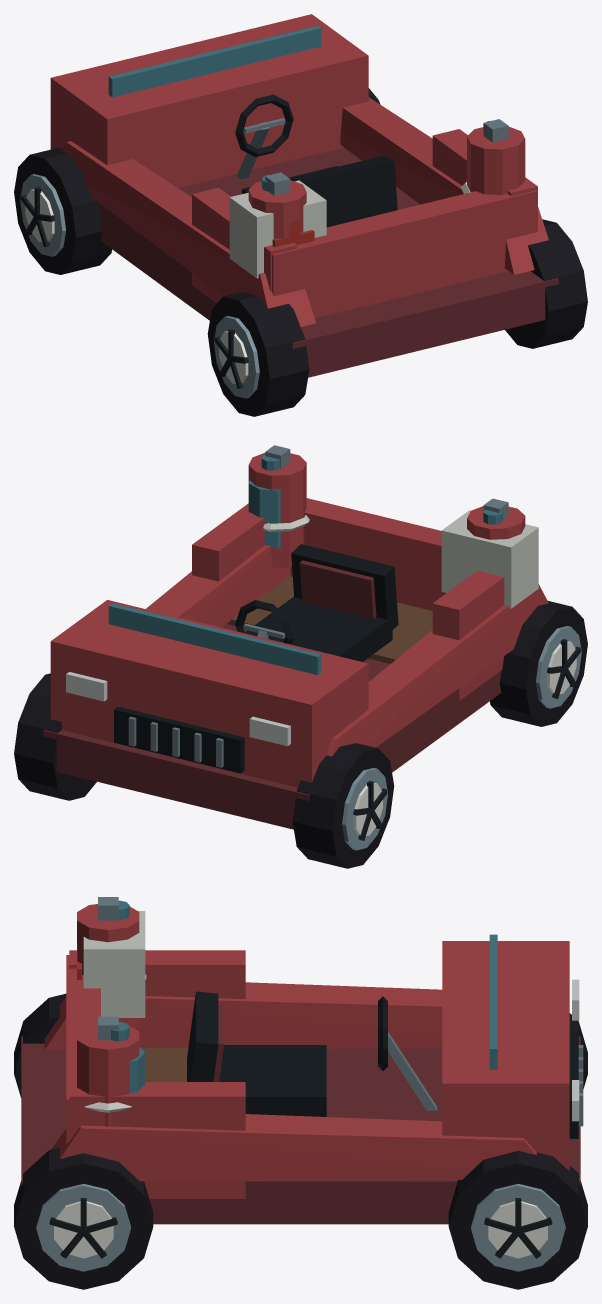
Rendered from kart.glb.
The picture shows the model from 3 angles, top to bottom: view 1: azimuth 30°, elevation 25°; view 2: azimuth 150°, elevation 25°; view 3: azimuth 270°, elevation 25°; orthographic projection. The views are drawn at different scales.
Visible parts, largest first — view 1: identity-truck-truck-utility-body, wheel-rear-left, wheel-front-left, identity-truck-driver-cockpit, identity-truck-motif-tanks, wheel-rear-right, identity-truck-motif-medical; view 2: identity-truck-truck-utility-body, identity-truck-driver-cockpit, wheel-front-left, wheel-rear-left, identity-truck-motif-tanks, identity-truck-motif-medical, wheel-front-right, identity-truck-motif-bottles; view 3: identity-truck-truck-utility-body, wheel-front-right, wheel-rear-right, identity-truck-driver-cockpit, identity-truck-motif-tanks, identity-truck-motif-medical, wheel-rear-left, identity-truck-motif-bottles.
Part boxes in pixels (x1=…): identity-truck-truck-utility-body: x1=50, y1=14, x2=558, y2=377; wheel-rear-left: x1=207, y1=292, x2=309, y2=416; wheel-front-left: x1=14, y1=148, x2=111, y2=274; identity-truck-driver-cockpit: x1=235, y1=94, x2=397, y2=227; identity-truck-motif-tanks: x1=248, y1=119, x2=525, y2=238; wheel-rear-right: x1=505, y1=219, x2=587, y2=348; identity-truck-motif-medical: x1=229, y1=180, x2=326, y2=278; identity-truck-truck-utility-body: x1=43, y1=498, x2=548, y2=829; identity-truck-driver-cockpit: x1=235, y1=544, x2=398, y2=661; wheel-front-left: x1=292, y1=743, x2=394, y2=868; wheel-rear-left: x1=490, y1=601, x2=587, y2=726; identity-truck-motif-tanks: x1=248, y1=445, x2=525, y2=568; identity-truck-motif-medical: x1=441, y1=510, x2=538, y2=608; wheel-front-right: x1=14, y1=673, x2=96, y2=800; identity-truck-motif-bottles: x1=248, y1=455, x2=502, y2=548; identity-truck-truck-utility-body: x1=21, y1=934, x2=583, y2=1224; wheel-front-right: x1=448, y1=1150, x2=587, y2=1289; wheel-rear-right: x1=14, y1=1147, x2=153, y2=1289; identity-truck-driver-cockpit: x1=187, y1=991, x2=437, y2=1116; identity-truck-motif-tanks: x1=77, y1=897, x2=146, y2=1126; identity-truck-motif-medical: x1=77, y1=911, x2=145, y2=1017; wheel-rear-left: x1=14, y1=993, x2=66, y2=1097; identity-truck-motif-bottles: x1=111, y1=900, x2=145, y2=1093.
Size of the model in its own units: 2.13 by 1.3 by 2.8.
